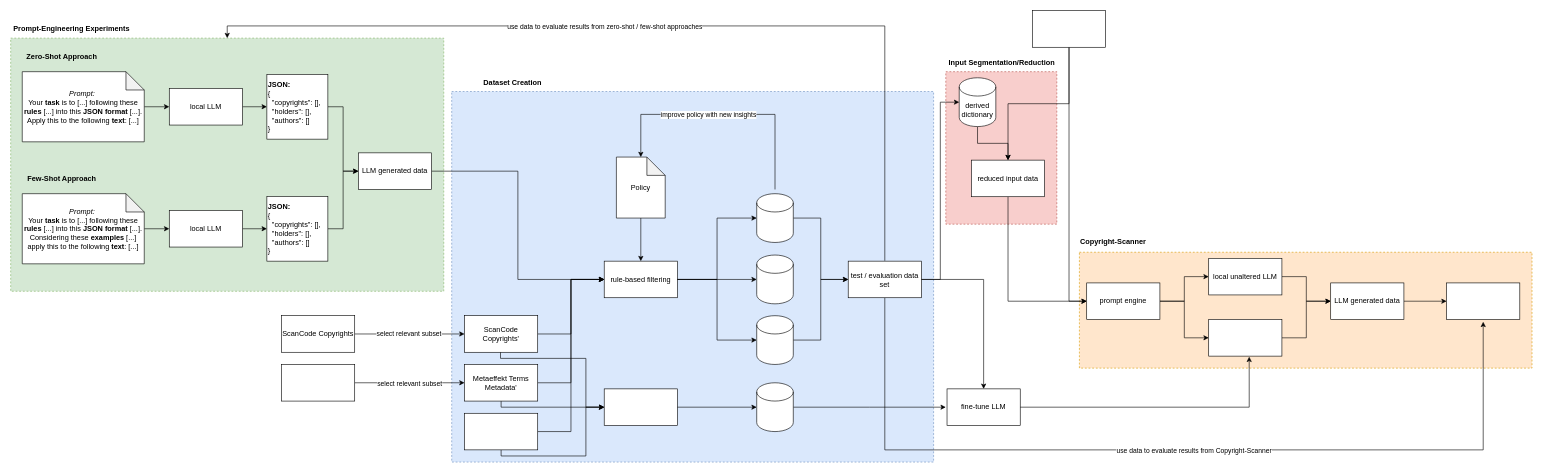
The diagram is 1543 pixels wide and 473 high, and some of its shapes have lost their labels. The shapes that lost their labels are listed below. From the top down, each one's centre as x and y in pixels, then its label:
At point (1069, 28): "input data".
At point (774, 217): "already fulfills policy".
At point (774, 279): "ignore".
At point (1483, 301): "validate data (with LLM)".
At point (774, 339): "curate".
At point (1245, 337): "fine-tuned LLM".
At point (318, 382): "Metaeffekt Terms Metadata".
At point (640, 406): "manually curate data".
At point (774, 407): "manually curated".
At point (501, 431): "Customer Alpine Scan".
